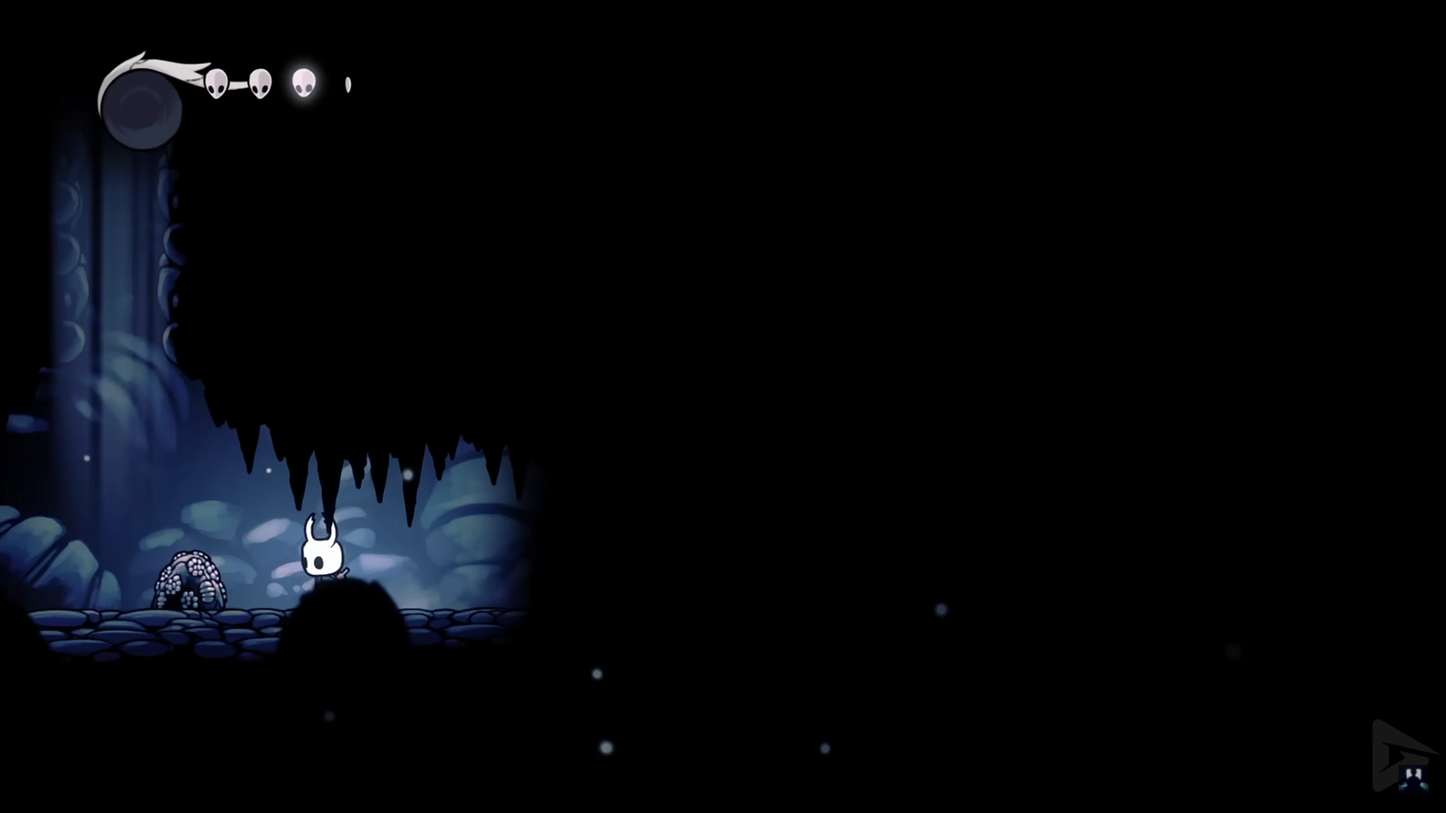HK: (294, 511, 349, 614)
